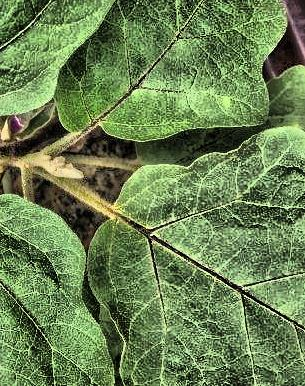HEALTHY: (140, 0, 305, 201)
